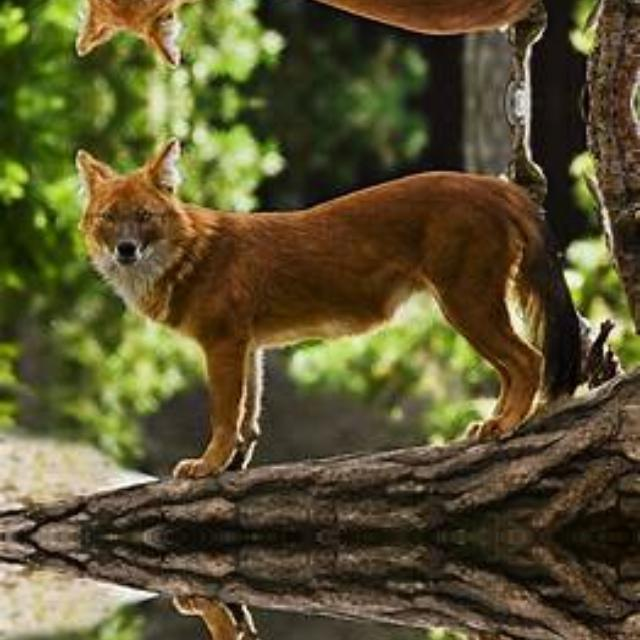dog: (60, 165, 584, 469), (59, 0, 584, 39), (59, 605, 584, 640)
